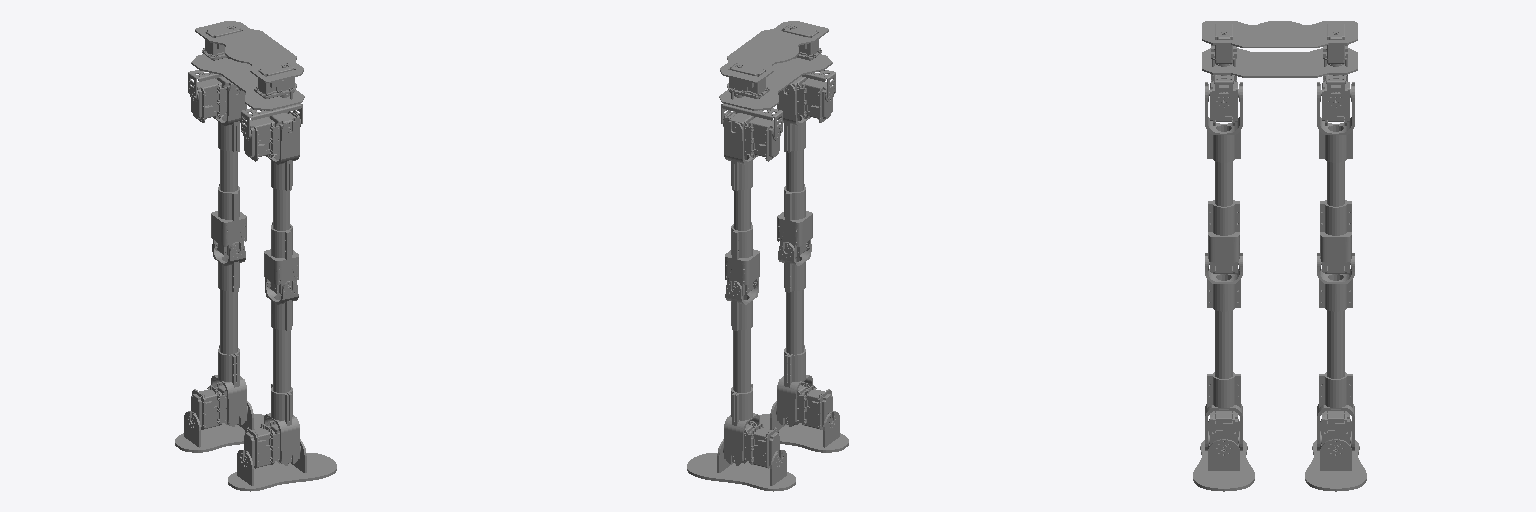
--- Render facts (derived) ---
Views: 3 orthographic renders of the robot side by side, from view 1: azimuth 30°, elevation 25°; view 2: azimuth 150°, elevation 25°; view 3: azimuth 270°, elevation 25°.
Model uthai with 17 links and 16 joints (12 revolute, 4 fixed), rooted at base_link, posed all joints at 0.
Visible links, largest first — view 1: base_footprint, r_hip_pitch_link, l_hip_pitch_link, r_knee_pitch_link, l_knee_pitch_link, r_ankle_roll_link, l_ankle_roll_link, r_hip_roll_link, l_hip_roll_link, l_ankle_pitch_link, r_ankle_pitch_link, r_hip_yaw_link; view 2: base_footprint, l_hip_pitch_link, r_hip_pitch_link, l_knee_pitch_link, r_knee_pitch_link, l_ankle_roll_link, r_ankle_roll_link, l_hip_roll_link, r_ankle_pitch_link, r_hip_roll_link, l_ankle_pitch_link, l_hip_yaw_link; view 3: base_footprint, r_hip_pitch_link, l_hip_pitch_link, l_knee_pitch_link, r_knee_pitch_link, r_ankle_roll_link, l_ankle_roll_link, r_ankle_pitch_link, l_ankle_pitch_link, r_hip_roll_link, l_hip_roll_link.
Boxes of the visible links, x1,y1,x2,y2 form: base_footprint: [191, 21, 304, 110]; r_hip_pitch_link: [264, 121, 299, 295]; l_hip_pitch_link: [211, 84, 246, 257]; r_knee_pitch_link: [264, 278, 299, 465]; l_knee_pitch_link: [211, 240, 246, 426]; r_ankle_roll_link: [228, 439, 336, 491]; l_ankle_roll_link: [175, 401, 264, 452]; r_hip_roll_link: [243, 111, 300, 161]; l_hip_roll_link: [190, 76, 239, 122]; l_ankle_pitch_link: [191, 382, 247, 429]; r_ankle_pitch_link: [244, 421, 300, 468]; r_hip_yaw_link: [241, 103, 302, 136]; base_footprint: [719, 21, 832, 110]; l_hip_pitch_link: [724, 121, 759, 295]; r_hip_pitch_link: [777, 84, 812, 257]; l_knee_pitch_link: [724, 278, 759, 465]; r_knee_pitch_link: [777, 240, 812, 426]; l_ankle_roll_link: [687, 439, 795, 491]; r_ankle_roll_link: [759, 401, 848, 452]; l_hip_roll_link: [723, 111, 780, 161]; r_ankle_pitch_link: [776, 382, 832, 429]; r_hip_roll_link: [785, 76, 833, 122]; l_ankle_pitch_link: [723, 421, 779, 468]; l_hip_yaw_link: [721, 103, 782, 136]; base_footprint: [1202, 21, 1357, 77]; r_hip_pitch_link: [1205, 82, 1242, 273]; l_hip_pitch_link: [1317, 82, 1354, 273]; l_knee_pitch_link: [1317, 253, 1354, 450]; r_knee_pitch_link: [1205, 253, 1242, 450]; r_ankle_roll_link: [1193, 419, 1254, 491]; l_ankle_roll_link: [1305, 419, 1366, 491]; r_ankle_pitch_link: [1208, 409, 1239, 450]; l_ankle_pitch_link: [1320, 409, 1351, 450]; r_hip_roll_link: [1208, 74, 1239, 125]; l_hip_roll_link: [1320, 75, 1351, 125].
Bounding box of the posed robot: 0.2 × 0.2799 × 0.7685 m (x, y, z).
Meshes: 13 distinct files referenced, 13 mesh visuals loaded (13 binary STL).

robot.urdf — uthai:
<?xml version="1.0" ?>
<!-- =================================================================================== -->
<!-- |    This document was autogenerated by xacro from uthai.urdf.xacro               | -->
<!-- |    EDITING THIS FILE BY HAND IS NOT RECOMMENDED                                 | -->
<!-- =================================================================================== -->
<robot name="uthai" xmlns:xacro="http://www.ros.org/wiki/xacro">
  <material name="black">
    <color rgba="0.0 0.0 0.0 1.0"/>
  </material>
  <material name="blue">
    <color rgba="0.0 0.0 0.8 1.0"/>
  </material>
  <material name="green">
    <color rgba="0.0 0.8 0.0 1.0"/>
  </material>
  <material name="grey">
    <color rgba="0.6 0.6 0.6 1.0"/>
  </material>
  <material name="orange">
    <color rgba="1.0 0.423529411765 0.0392156862745 1.0"/>
  </material>
  <material name="brown">
    <color rgba="0.870588235294 0.811764705882 0.764705882353 1.0"/>
  </material>
  <material name="red">
    <color rgba="0.8 0.0 0.0 1.0"/>
  </material>
  <material name="white">
    <color rgba="1.0 1.0 1.0 1.0"/>
  </material>
  <!-- ros_control plugin -->
  <gazebo>
    <plugin filename="libgazebo_ros_control.so" name="gazebo_ros_control">
      <robotNamespace>/uthai</robotNamespace>
    </plugin>
  </gazebo>
  <gazebo>
    <plugin filename="libgazebo_ros_p3d.so" name="ground_truth">
      <frameName>map</frameName>
      <bodyName>base_link</bodyName>
      <topicName>/uthai/odom</topicName>
      <updateRate>100.0</updateRate>
    </plugin>
  </gazebo>
  <!-- <gazebo><plugin name="imu_plugin" filename="libgazebo_ros_imu.so"><alwaysOn>true</alwaysOn><bodyName>imu_link</bodyName><topicName>/uthai/sensor/imu</topicName><serviceName>imu_service</serviceName><gaussianNoise>0.0</gaussianNoise><updateRate>10.0</updateRate><imu><noise><type>gaussian</type><rate><mean>0.0</mean><stddev>2e-4</stddev><bias_mean>0.0000075</bias_mean><bias_stddev>0.0000008</bias_stddev></rate><accel><mean>0.0</mean><stddev>1.7e-2</stddev><bias_mean>0.1</bias_mean><bias_stddev>0.001</bias_stddev></accel></noise></imu></plugin></gazebo>-->
  <!-- imu sensor -->
  <gazebo reference="imu_link">
    <gravity>true</gravity>
    <sensor name="imu_sensor" type="imu">
      <always_on>true</always_on>
      <update_rate>100</update_rate>
      <visualize>true</visualize>
      <topic>/uthai/sensor/imu</topic>
      <plugin filename="libgazebo_ros_imu_sensor.so" name="imu_plugin">
        <topicName>uthai/sensor/imu</topicName>
        <bodyName>imu_link</bodyName>
        <updateRateHZ>10.0</updateRateHZ>
        <gaussianNoise>0.0</gaussianNoise>
        <xyzOffset>0 0 0</xyzOffset>
        <rpyOffset>0 0 0</rpyOffset>
        <frameName>imu_link</frameName>
      </plugin>
      <pose>0 0 0 0 0 0</pose>
    </sensor>
  </gazebo>
  <!-- World -->
  <gazebo reference="world"/>
  <!-- Map -->
  <gazebo reference="map"/>
  <!-- Base -->
  <gazebo reference="base_link"/>
  <!-- IMU -->
  <gazebo reference="imu_link"/>
  <!-- Body-->
  <gazebo reference="base_footprint">
    <mu1>0.2</mu1>
    <mu2>0.2</mu2>
    <material>Gazebo/Grey</material>
    <selfCollide>false</selfCollide>
  </gazebo>
  <!-- Left Leg -->
  <gazebo reference="l_hip_yaw_link">
    <mu1>0.2</mu1>
    <mu2>0.2</mu2>
    <material>Gazebo/Grey</material>
    <selfCollide>false</selfCollide>
  </gazebo>
  <gazebo reference="l_hip_roll_link">
    <mu1>0.2</mu1>
    <mu2>0.2</mu2>
    <material>Gazebo/Grey</material>
    <selfCollide>false</selfCollide>
  </gazebo>
  <gazebo reference="l_hip_pitch_link">
    <mu1>0.2</mu1>
    <mu2>0.2</mu2>
    <material>Gazebo/Grey</material>
    <selfCollide>false</selfCollide>
  </gazebo>
  <gazebo reference="l_knee_pitch_link">
    <mu1>0.2</mu1>
    <mu2>0.2</mu2>
    <material>Gazebo/Grey</material>
    <selfCollide>false</selfCollide>
  </gazebo>
  <gazebo reference="l_ankle_pitch_link">
    <mu1>0.2</mu1>
    <mu2>0.2</mu2>
    <material>Gazebo/Grey</material>
    <selfCollide>false</selfCollide>
  </gazebo>
  <gazebo reference="l_ankle_roll_link">
    <kp>100000.0</kp>
    <kd>100.0</kd>
    <mu1>1000</mu1>
    <mu2>1000</mu2>
    <!--<maxContacts>30</maxContacts>-->
    <fdir1>1 1 0</fdir1>
    <maxVel>1.0</maxVel>
    <minDepth>0.001</minDepth>
    <material>Gazebo/Blue</material>
  </gazebo>
  <!-- Right Leg -->
  <gazebo reference="r_hip_yaw_link">
    <mu1>0.2</mu1>
    <mu2>0.2</mu2>
    <material>Gazebo/Grey</material>
    <selfCollide>false</selfCollide>
  </gazebo>
  <gazebo reference="r_hip_roll_link">
    <mu1>0.2</mu1>
    <mu2>0.2</mu2>
    <material>Gazebo/Grey</material>
    <selfCollide>false</selfCollide>
  </gazebo>
  <gazebo reference="r_hip_pitch_link">
    <mu1>0.2</mu1>
    <mu2>0.2</mu2>
    <material>Gazebo/Grey</material>
    <selfCollide>false</selfCollide>
  </gazebo>
  <gazebo reference="r_knee_pitch_link">
    <mu1>0.2</mu1>
    <mu2>0.2</mu2>
    <material>Gazebo/Grey</material>
    <selfCollide>false</selfCollide>
  </gazebo>
  <gazebo reference="r_ankle_pitch_link">
    <mu1>0.2</mu1>
    <mu2>0.2</mu2>
    <material>Gazebo/Grey</material>
    <selfCollide>false</selfCollide>
  </gazebo>
  <gazebo reference="r_ankle_roll_link">
    <kp>100000.0</kp>
    <kd>100.0</kd>
    <mu1>1000</mu1>
    <mu2>1000</mu2>
    <!--<maxContacts>30</maxContacts>-->
    <fdir1>1 1 0</fdir1>
    <maxVel>1.0</maxVel>
    <minDepth>0.0001</minDepth>
    <material>Gazebo/Blue</material>
  </gazebo>
  <!-- Used for fixing robot -->
  <!--<link name="world"></link> 
    <joint name="world_fixed" type="fixed">
        <origin xyz="0 0 0.764" rpy="0 0 0"/>
        <parent link="world"/>
        <child link="base_link"/>
    </joint> -->
  <link name="base_link"/>
  <joint name="base_fixed" type="fixed">
    <origin rpy="0 0 0" xyz="0 0 0"/>
    <parent link="base_link"/>
    <child link="base_footprint"/>
  </joint>
  <!-- base_link -->
  <link name="base_footprint">
    <visual>
      <origin rpy="0 0 0" xyz="0 0 0"/>
      <geometry>
        <mesh filename="package://uthai_description/meshes/base.STL" scale="1 1 1"/>
      </geometry>
      <material name="grey"/>
    </visual>
    <collision>
      <origin rpy="0 0 0" xyz="0 0 0"/>
      <geometry>
        <mesh filename="package://uthai_description/meshes/base.STL" scale="1 1 1"/>
      </geometry>
      <material name="grey"/>
    </collision>
    <inertial>
      <origin xyz="-0.00856879 0.00000000 -0.02356598"/>
      <mass value="0.664564"/>
      <inertia ixx="0.00504324" ixy="-0.00000002" ixz="-0.00000358" iyy="0.00051942" iyz="0.00000000" izz="0.00510248"/>
    </inertial>
  </link>
  <!-- imu joint -->
  <joint name="imu_fixed" type="fixed">
    <origin rpy="0 0 0" xyz="0.0 0 0.45"/>
    <parent link="base_footprint"/>
    <child link="imu_link"/>
  </joint>
  <link name="imu_link"/>
  <!-- right hip yaw joint -->
  <joint name="r_hip_yaw_joint" type="revolute">
    <axis xyz="0 0 1"/>
    <origin rpy="0 0 -1.570796327" xyz="0.0 -0.09 -0.068"/>
    <parent link="base_footprint"/>
    <child link="r_hip_yaw_link"/>
    <limit effort="1000" lower="-2.8274333886" upper="2.8274333886" velocity="3"/>
    <dynamics damping="0.1" friction="0.0"/>
  </joint>
  <transmission name="r_hip_yaw_joint_tran">
    <type>transmission_interface/SimpleTransmission</type>
    <joint name="r_hip_yaw_joint">
      <hardwareInterface>hardware_interface/EffortJointInterface</hardwareInterface>
    </joint>
    <actuator name="r_hip_yaw_joint_motor">
      <hardwareInterface>EffortJointInterface</hardwareInterface>
      <mechanicalReduction>1</mechanicalReduction>
    </actuator>
  </transmission>
  <!-- right hip yaw link -->
  <link name="r_hip_yaw_link">
    <visual>
      <origin rpy="0 0 0" xyz="0 0 0"/>
      <geometry>
        <mesh filename="package://uthai_description/meshes/r_hip_yaw.STL" scale="1 1 1"/>
      </geometry>
      <material name="grey"/>
    </visual>
    <collision>
      <origin rpy="0 0 0" xyz="0 0 0"/>
      <geometry>
        <mesh filename="package://uthai_description/meshes/r_hip_yaw.STL" scale="1 1 1"/>
      </geometry>
      <material name="grey"/>
    </collision>
    <inertial>
      <origin xyz="0.00000000 -0.01999 -0.00735017"/>
      <mass value="0.090718"/>
      <inertia ixx="0.00014114" ixy="0.00000000" ixz="0.00000000" iyy="0.00002016" iyz="0.00000000" izz="0.00014272"/>
    </inertial>
  </link>
  <!-- right hip roll joint-->
  <joint name="r_hip_roll_joint" type="revolute">
    <axis xyz="0 0 1"/>
    <origin rpy="1.570796327 0 3.141592654" xyz="0 0 -0.036"/>
    <parent link="r_hip_yaw_link"/>
    <child link="r_hip_roll_link"/>
    <limit effort="1000" lower="-2.8274333886" upper="2.8274333886" velocity="3"/>
    <dynamics damping="0.1" friction="0.0"/>
  </joint>
  <transmission name="r_hip_roll_joint_tran">
    <type>transmission_interface/SimpleTransmission</type>
    <joint name="r_hip_roll_joint">
      <hardwareInterface>hardware_interface/EffortJointInterface</hardwareInterface>
    </joint>
    <actuator name="r_hip_roll_joint_motor">
      <hardwareInterface>EffortJointInterface</hardwareInterface>
      <mechanicalReduction>1</mechanicalReduction>
    </actuator>
  </transmission>
  <!-- right hip roll link -->
  <link name="r_hip_roll_link">
    <visual>
      <origin rpy="0 0 0" xyz="0 0 0"/>
      <geometry>
        <mesh filename="package://uthai_description/meshes/r_hip_roll.STL" scale="1 1 1"/>
      </geometry>
      <material name="grey"/>
    </visual>
    <collision>
      <origin rpy="0 0 0" xyz="0 0 0"/>
      <geometry>
        <mesh filename="package://uthai_description/meshes/r_hip_roll.STL" scale="1 1 1"/>
      </geometry>
      <material name="grey"/>
    </collision>
    <inertial>
      <origin xyz="-0.00005878 -0.01433229 -0.01958936"/>
      <mass value="0.342"/>
      <inertia ixx="0.00033963" ixy="0.00000054" ixz="-0.00000042" iyy="0.00029059" iyz="0.00001145" izz="0.00015024"/>
    </inertial>
  </link>
  <!-- right hip pitch joint -->
  <joint name="r_hip_pitch_joint" type="revolute">
    <axis xyz="0 0 1"/>
    <origin rpy="-1.570796327 0 -1.570796327" xyz="0 0 0"/>
    <parent link="r_hip_roll_link"/>
    <child link="r_hip_pitch_link"/>
    <limit effort="1000" lower="-2.8274333886" upper="2.8274333886" velocity="3"/>
    <dynamics damping="0.1" friction="0.0"/>
  </joint>
  <transmission name="r_hip_pitch_joint_tran">
    <type>transmission_interface/SimpleTransmission</type>
    <joint name="r_hip_pitch_joint">
      <hardwareInterface>hardware_interface/EffortJointInterface</hardwareInterface>
    </joint>
    <actuator name="r_hip_pitch_joint_motor">
      <hardwareInterface>EffortJointInterface</hardwareInterface>
      <mechanicalReduction>1</mechanicalReduction>
    </actuator>
  </transmission>
  <!-- right hip pitch link -->
  <link name="r_hip_pitch_link">
    <visual>
      <origin rpy="0 0 0" xyz="0 0 0"/>
      <geometry>
        <mesh filename="package://uthai_description/meshes/r_hip_pitch.STL" scale="1 1 1"/>
      </geometry>
      <material name="grey"/>
    </visual>
    <collision>
      <origin rpy="0 0 0" xyz="0 0 0"/>
      <geometry>
        <mesh filename="package://uthai_description/meshes/r_hip_pitch.STL" scale="1 1 1"/>
      </geometry>
      <material name="grey"/>
    </collision>
    <inertial>
      <origin xyz="0.21422113 0.0 0.0"/>
      <mass value="0.33732478"/>
      <inertia ixx="0.00012533" ixy="0.00000000" ixz="0.00000079" iyy="0.00295762" iyz="0.00000000" izz="0.00291401"/>
    </inertial>
  </link>
  <!-- right knee pitch joint -->
  <joint name="r_knee_pitch_joint" type="revolute">
    <axis xyz="0 0 1"/>
    <origin rpy="0 0 0" xyz="0.3 0 0"/>
    <parent link="r_hip_pitch_link"/>
    <child link="r_knee_pitch_link"/>
    <limit effort="1000" lower="-2.8274333886" upper="2.8274333886" velocity="3"/>
    <dynamics damping="0.1" friction="0.0"/>
  </joint>
  <transmission name="r_knee_pitch_joint_tran">
    <type>transmission_interface/SimpleTransmission</type>
    <joint name="r_knee_pitch_joint">
      <hardwareInterface>hardware_interface/EffortJointInterface</hardwareInterface>
    </joint>
    <actuator name="r_knee_pitch_joint_motor">
      <hardwareInterface>EffortJointInterface</hardwareInterface>
      <mechanicalReduction>1</mechanicalReduction>
    </actuator>
  </transmission>
  <!-- right knee pitch link -->
  <link name="r_knee_pitch_link">
    <visual>
      <origin rpy="0 0 0" xyz="0 0 0"/>
      <geometry>
        <mesh filename="package://uthai_description/meshes/r_knee_pitch.STL" scale="1 1 1"/>
      </geometry>
      <material name="grey"/>
    </visual>
    <collision>
      <origin rpy="0 0 0" xyz="0 0 0"/>
      <geometry>
        <mesh filename="package://uthai_description/meshes/r_knee_pitch.STL" scale="1 1 1"/>
      </geometry>
      <material name="grey"/>
    </collision>
    <inertial>
      <origin xyz="0.16288151 0.00000000 0.00000000"/>
      <mass value="0.15100000"/>
      <inertia ixx="0.0000634" ixy="0.0" ixz="0.0" iyy="0.00139615" iyz="0.0" izz="0.00136734"/>
    </inertial>
  </link>
  <!-- right ankle pitch joint -->
  <joint name="r_ankle_pitch_joint" type="revolute">
    <axis xyz="0 0 1"/>
    <origin rpy="0 0 0" xyz="0.315 0 0"/>
    <parent link="r_knee_pitch_link"/>
    <child link="r_ankle_pitch_link"/>
    <limit effort="1000" lower="-2.8274333886" upper="2.8274333886" velocity="3"/>
    <dynamics damping="0.1" friction="0.0"/>
  </joint>
  <transmission name="r_ankle_pitch_joint_tran">
    <type>transmission_interface/SimpleTransmission</type>
    <joint name="r_ankle_pitch_joint">
      <hardwareInterface>hardware_interface/EffortJointInterface</hardwareInterface>
    </joint>
    <actuator name="r_ankle_pitch_joint_motor">
      <hardwareInterface>EffortJointInterface</hardwareInterface>
      <mechanicalReduction>1</mechanicalReduction>
    </actuator>
  </transmission>
  <!-- right ankle pitch link -->
  <link name="r_ankle_pitch_link">
    <visual>
      <origin rpy="0 0 0" xyz="0 0 0"/>
      <geometry>
        <mesh filename="package://uthai_description/meshes/r_ankle_pitch.STL" scale="1 1 1"/>
      </geometry>
      <material name="grey"/>
    </visual>
    <collision>
      <origin rpy="0 0 0" xyz="0 0 0"/>
      <geometry>
        <mesh filename="package://uthai_description/meshes/r_ankle_pitch.STL" scale="1 1 1"/>
      </geometry>
      <material name="grey"/>
    </collision>
    <inertial>
      <origin xyz="-0.01433229 0.01958936 0.00005878"/>
      <mass value="0.342"/>
      <inertia ixx="0.00029059" ixy="-0.00001145" ixz="-0.00000054" iyy="0.00015024" iyz="-0.00000042" izz="0.00033963"/>
    </inertial>
  </link>
  <!-- right ankle roll pitch -->
  <joint name="r_ankle_roll_joint" type="revolute">
    <axis xyz="0 0 1"/>
    <origin rpy="1.570796327 0 0" xyz="0 0 0"/>
    <parent link="r_ankle_pitch_link"/>
    <child link="r_ankle_roll_link"/>
    <limit effort="1000" lower="-2.8274333886" upper="2.8274333886" velocity="3"/>
    <dynamics damping="0.1" friction="0.0"/>
  </joint>
  <transmission name="r_ankle_roll_joint_tran">
    <type>transmission_interface/SimpleTransmission</type>
    <joint name="r_ankle_roll_joint">
      <hardwareInterface>hardware_interface/EffortJointInterface</hardwareInterface>
    </joint>
    <actuator name="r_ankle_roll_joint_motor">
      <hardwareInterface>EffortJointInterface</hardwareInterface>
      <mechanicalReduction>1</mechanicalReduction>
    </actuator>
  </transmission>
  <!-- right ankle roll link -->
  <link name="r_ankle_roll_link">
    <visual>
      <origin rpy="0 0 0" xyz="0 0 0"/>
      <geometry>
        <mesh filename="package://uthai_description/meshes/r_ankle_roll.STL" scale="1 1 1"/>
      </geometry>
      <material name="grey"/>
    </visual>
    <collision>
      <origin rpy="0 0 0" xyz="0 0 0"/>
      <geometry>
        <mesh filename="package://uthai_description/meshes/r_ankle_roll.STL" scale="1 1 1"/>
      </geometry>
      <material name="grey"/>
    </collision>
    <inertial>
      <origin xyz="0.03627101 -0.00000116 0.00053793"/>
      <mass value="0.155"/>
      <inertia ixx="0.00052206" ixy="0" ixz="0.00001" iyy="0.00047025" iyz="0" izz="0.00009087"/>
    </inertial>
  </link>
  <!-- right ft fixed joint -->
  <joint name="r_ft_fixed" type="fixed">
    <origin rpy="0 -1.570796327 0" xyz="0.045 0.0 0.0"/>
    <parent link="r_ankle_roll_link"/>
    <child link="r_foot_ft_link"/>
  </joint>
  <!-- right foot ft link -->
  <link name="r_foot_ft_link"/>
  <!-- left hip yaw joint -->
  <joint name="l_hip_yaw_joint" type="revolute">
    <axis xyz="0 0 1"/>
    <origin rpy="0 0 1.570796327" xyz="0.0 0.09 -0.068"/>
    <parent link="base_footprint"/>
    <child link="l_hip_yaw_link"/>
    <limit effort="1000" lower="-2.8274333886" upper="2.8274333886" velocity="3"/>
    <dynamics damping="0.1" friction="0.0"/>
  </joint>
  <transmission name="l_hip_yaw_joint_tran">
    <type>transmission_interface/SimpleTransmission</type>
    <joint name="l_hip_yaw_joint">
      <hardwareInterface>hardware_interface/EffortJointInterface</hardwareInterface>
    </joint>
    <actuator name="l_hip_yaw_joint_motor">
      <hardwareInterface>EffortJointInterface</hardwareInterface>
      <mechanicalReduction>1</mechanicalReduction>
    </actuator>
  </transmission>
  <!-- left hip yaw link -->
  <link name="l_hip_yaw_link">
    <visual>
      <origin rpy="0 0 0" xyz="0 0 0"/>
      <geometry>
        <mesh filename="package://uthai_description/meshes/l_hip_yaw.STL" scale="1 1 1"/>
      </geometry>
      <material name="grey"/>
    </visual>
    <collision>
      <origin rpy="0 0 0" xyz="0 0 0"/>
      <geometry>
        <mesh filename="package://uthai_description/meshes/l_hip_yaw.STL" scale="1 1 1"/>
      </geometry>
      <material name="grey"/>
    </collision>
    <inertial>
      <origin xyz="0 0.01999 -0.00735017"/>
      <mass value="0.090718"/>
      <inertia ixx="0.00014114" ixy="0.0" ixz="0.0" iyy="0.00002016" iyz="0.0" izz="0.00014272"/>
    </inertial>
  </link>
  <!-- left hip roll joint-->
  <joint name="l_hip_roll_joint" type="revolute">
    <axis xyz="0 0 1"/>
    <origin rpy="1.570796327 0 0" xyz="0 0 -0.036"/>
    <parent link="l_hip_yaw_link"/>
    <child link="l_hip_roll_link"/>
    <limit effort="1000" lower="-2.8274333886" upper="2.8274333886" velocity="3"/>
    <dynamics damping="0.1" friction="0.0"/>
  </joint>
  <transmission name="l_hip_roll_joint_tran">
    <type>transmission_interface/SimpleTransmission</type>
    <joint name="l_hip_roll_joint">
      <hardwareInterface>hardware_interface/EffortJointInterface</hardwareInterface>
    </joint>
    <actuator name="l_hip_roll_joint_motor">
      <hardwareInterface>EffortJointInterface</hardwareInterface>
      <mechanicalReduction>1</mechanicalReduction>
    </actuator>
  </transmission>
  <!-- left hip roll link -->
  <link name="l_hip_roll_link">
    <visual>
      <origin rpy="0 0 0" xyz="0 0 0"/>
      <geometry>
        <mesh filename="package://uthai_description/meshes/l_hip_roll.STL" scale="1 1 1"/>
      </geometry>
      <material name="grey"/>
    </visual>
    <collision>
      <origin rpy="0 0 0" xyz="0 0 0"/>
      <geometry>
        <mesh filename="package://uthai_description/meshes/l_hip_roll.STL" scale="1 1 1"/>
      </geometry>
      <material name="grey"/>
    </collision>
    <inertial>
      <origin xyz="-0.00005878 -0.01433229 -0.01958936"/>
      <mass value="0.342"/>
      <inertia ixx="0.00033963" ixy="0.00000054" ixz="-0.00000042" iyy="0.00029059" iyz="0.00001145" izz="0.00015024"/>
    </inertial>
  </link>
  <!-- left hip pitch joint -->
  <joint name="l_hip_pitch_joint" type="revolute">
    <axis xyz="0 0 1"/>
    <origin rpy="-1.570796327 0 -1.570796327" xyz="0 0 0"/>
    <parent link="l_hip_roll_link"/>
    <child link="l_hip_pitch_link"/>
    <limit effort="1000" lower="-2.8274333886" upper="2.8274333886" velocity="3"/>
    <dynamics damping="0.1" friction="0.0"/>
  </joint>
  <transmission name="l_hip_pitch_joint_tran">
    <type>transmission_interface/SimpleTransmission</type>
    <joint name="l_hip_pitch_joint">
      <hardwareInterface>hardware_interface/EffortJointInterface</hardwareInterface>
    </joint>
    <actuator name="l_hip_pitch_joint_motor">
      <hardwareInterface>EffortJointInterface</hardwareInterface>
      <mechanicalReduction>1</mechanicalReduction>
    </actuator>
  </transmission>
  <!-- left hip pitch link -->
  <link name="l_hip_pitch_link">
    <visual>
      <origin rpy="0 0 0" xyz="0 0 0"/>
      <geometry>
        <mesh filename="package://uthai_description/meshes/l_hip_pitch.STL" scale="1 1 1"/>
      </geometry>
      <material name="grey"/>
    </visual>
    <collision>
      <origin rpy="0 0 0" xyz="0 0 0"/>
      <geometry>
        <mesh filename="package://uthai_description/meshes/l_hip_pitch.STL" scale="1 1 1"/>
      </geometry>
      <material name="grey"/>
    </collision>
    <inertial>
      <origin xyz="0.21422113 0.00000000 0.00000000"/>
      <mass value="0.33732478"/>
      <inertia ixx="0.00012533" ixy="0.00000000" ixz="0.00000079" iyy="0.00295762" iyz="0.00000000" izz="0.00291401"/>
    </inertial>
  </link>
  <!-- left knee pitch joint -->
  <joint name="l_knee_pitch_joint" type="revolute">
    <axis xyz="0 0 1"/>
    <origin rpy="0 0 0" xyz="0.3 0 0"/>
    <parent link="l_hip_pitch_link"/>
    <child link="l_knee_pitch_link"/>
    <limit effort="1000" lower="-2.8274333886" upper="2.8274333886" velocity="3"/>
    <dynamics damping="0.1" friction="0.0"/>
  </joint>
  <transmission name="l_knee_pitch_joint_tran">
    <type>transmission_interface/SimpleTransmission</type>
    <joint name="l_knee_pitch_joint">
      <hardwareInterface>hardware_interface/EffortJointInterface</hardwareInterface>
    </joint>
    <actuator name="l_knee_pitch_joint_motor">
      <hardwareInterface>EffortJointInterface</hardwareInterface>
      <mechanicalReduction>1</mechanicalReduction>
    </actuator>
  </transmission>
  <!-- left knee pitch link -->
  <link name="l_knee_pitch_link">
    <visual>
      <origin rpy="0 0 0" xyz="0 0 0"/>
      <geometry>
        <mesh filename="package://uthai_description/meshes/l_knee_pitch.STL" scale="1 1 1"/>
      </geometry>
      <material name="grey"/>
    </visual>
    <collision>
      <origin rpy="0 0 0" xyz="0 0 0"/>
      <geometry>
        <mesh filename="package://uthai_description/meshes/l_knee_pitch.STL" scale="1 1 1"/>
      </geometry>
      <material name="grey"/>
    </collision>
    <inertial>
      <origin xyz="0.16288151 0.00000000 0.00000000"/>
      <mass value="0.15100000"/>
      <inertia ixx="0.0000634" ixy="0.0" ixz="0.0" iyy="0.00139615" iyz="0.0" izz="0.00136734"/>
    </inertial>
  </link>
  <!-- left ankle pitch joint -->
  <joint name="l_ankle_pitch_joint" type="revolute">
    <axis xyz="0 0 1"/>
    <origin rpy="0 0 0" xyz="0.315 0 0"/>
    <parent link="l_knee_pitch_link"/>
    <child link="l_ankle_pitch_link"/>
    <limit effort="1000" lower="-2.8274333886" upper="2.8274333886" velocity="3"/>
    <dynamics damping="0.1" friction="0.0"/>
  </joint>
  <transmission name="l_ankle_pitch_joint_tran">
    <type>transmission_interface/SimpleTransmission</type>
    <joint name="l_ankle_pitch_joint">
      <hardwareInterface>hardware_interface/EffortJointInterface</hardwareInterface>
    </joint>
    <actuator name="l_ankle_pitch_joint_motor">
      <hardwareInterface>EffortJointInterface</hardwareInterface>
      <mechanicalReduction>1</mechanicalReduction>
    </actuator>
  </transmission>
  <!-- left ankle pitch link -->
  <link name="l_ankle_pitch_link">
    <visual>
      <origin rpy="0 0 0" xyz="0 0 0"/>
      <geometry>
        <mesh filename="package://uthai_description/meshes/l_ankle_pitch.STL" scale="1 1 1"/>
      </geometry>
      <material name="grey"/>
    </visual>
    <collision>
      <origin rpy="0 0 0" xyz="0 0 0"/>
      <geometry>
        <mesh filename="package://uthai_description/meshes/l_ankle_pitch.STL" scale="1 1 1"/>
      </geometry>
      <material name="grey"/>
    </collision>
    <inertial>
      <origin xyz="-0.01433229 0.01958936 0.00005878"/>
      <mass value="0.34200000"/>
      <inertia ixx="0.00029059" ixy="-0.00001145" ixz="-0.00000054" iyy="0.00015024" iyz="-0.00000042" izz="0.00033963"/>
    </inertial>
  </link>
  <!-- left ankle roll pitch -->
  <joint name="l_ankle_roll_joint" type="revolute">
    <axis xyz="0 0 1"/>
    <origin rpy="1.570796327 0 0" xyz="0 0 0"/>
    <parent link="l_ankle_pitch_link"/>
    <child link="l_ankle_roll_link"/>
    <limit effort="1000" lower="-2.8274333886" upper="2.8274333886" velocity="3"/>
    <dynamics damping="0.1" friction="0.0"/>
  </joint>
  <transmission name="l_ankle_roll_joint_tran">
    <type>transmission_interface/SimpleTransmission</type>
    <joint name="l_ankle_roll_joint">
      <hardwareInterface>hardware_interface/EffortJointInterface</hardwareInterface>
    </joint>
    <actuator name="l_ankle_roll_joint_motor">
      <hardwareInterface>EffortJointInterface</hardwareInterface>
      <mechanicalReduction>1</mechanicalReduction>
    </actuator>
  </transmission>
  <!-- left ankle roll link -->
  <link name="l_ankle_roll_link">
    <visual>
      <origin rpy="0 0 0" xyz="0 0 0"/>
      <geometry>
        <mesh filename="package://uthai_description/meshes/l_ankle_roll.STL" scale="1 1 1"/>
      </geometry>
      <material name="grey"/>
    </visual>
    <collision>
      <origin rpy="0 0 0" xyz="0 0 0"/>
      <geometry>
        <mesh filename="package://uthai_description/meshes/l_ankle_roll.STL" scale="1 1 1"/>
      </geometry>
      <material name="grey"/>
    </collision>
    <inertial>
      <origin xyz="0.03627101 -0.00000116 0.00053793"/>
      <mass value="0.155"/>
      <inertia ixx="0.00052206" ixy="0.000000" ixz="0.00001" iyy="0.00047025" iyz="0" izz="0.00009087"/>
    </inertial>
  </link>
  <!-- left ft fixed joint -->
  <joint name="l_ft_fixed" type="fixed">
    <origin rpy="0 -1.570796327 0" xyz="0.045 0.0 0.0"/>
    <parent link="l_ankle_roll_link"/>
    <child link="l_foot_ft_link"/>
  </joint>
  <!-- left foot ft link -->
  <link name="l_foot_ft_link"/>
</robot>
